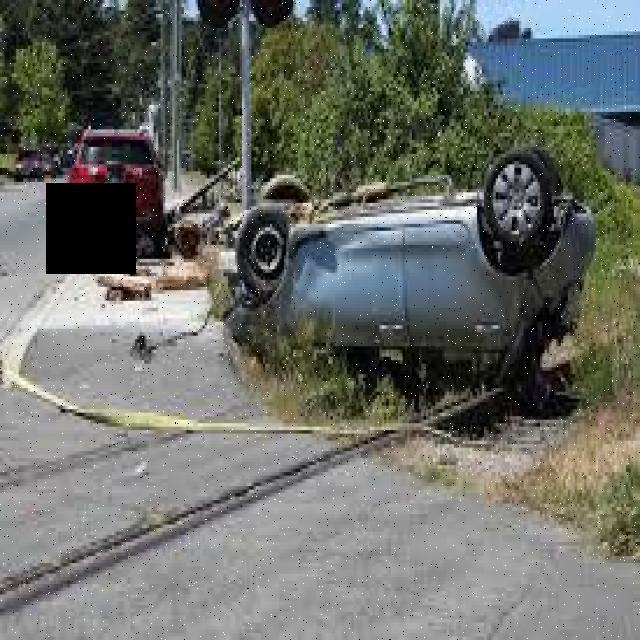single accident: (212, 159, 594, 402)
